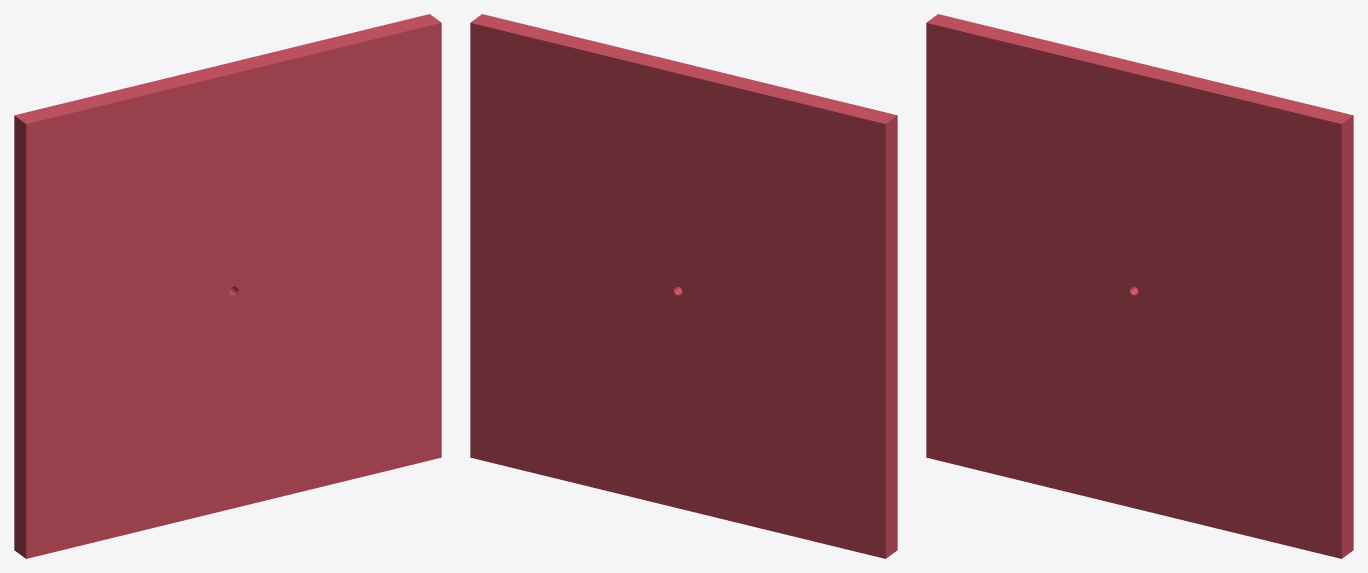
Rendered from pinhole_plate.glb.
3 renders of one model, left to right at view 1: azimuth 30°, elevation 25°; view 2: azimuth 150°, elevation 25°; view 3: azimuth 330°, elevation 25°, orthographic.
Visible parts, largest first — view 1: Mesh_Mesh_head_geo.001_lambert2SG.001; view 2: Mesh_Mesh_head_geo.001_lambert2SG.001; view 3: Mesh_Mesh_head_geo.001_lambert2SG.001.
Part boxes in pixels (x1,y1,x2,y2): Mesh_Mesh_head_geo.001_lambert2SG.001: (14, 14, 441, 558); Mesh_Mesh_head_geo.001_lambert2SG.001: (470, 14, 897, 558); Mesh_Mesh_head_geo.001_lambert2SG.001: (926, 14, 1353, 558).
Size of the model in its own units: 0.01 by 0.01 by 0.0005.
